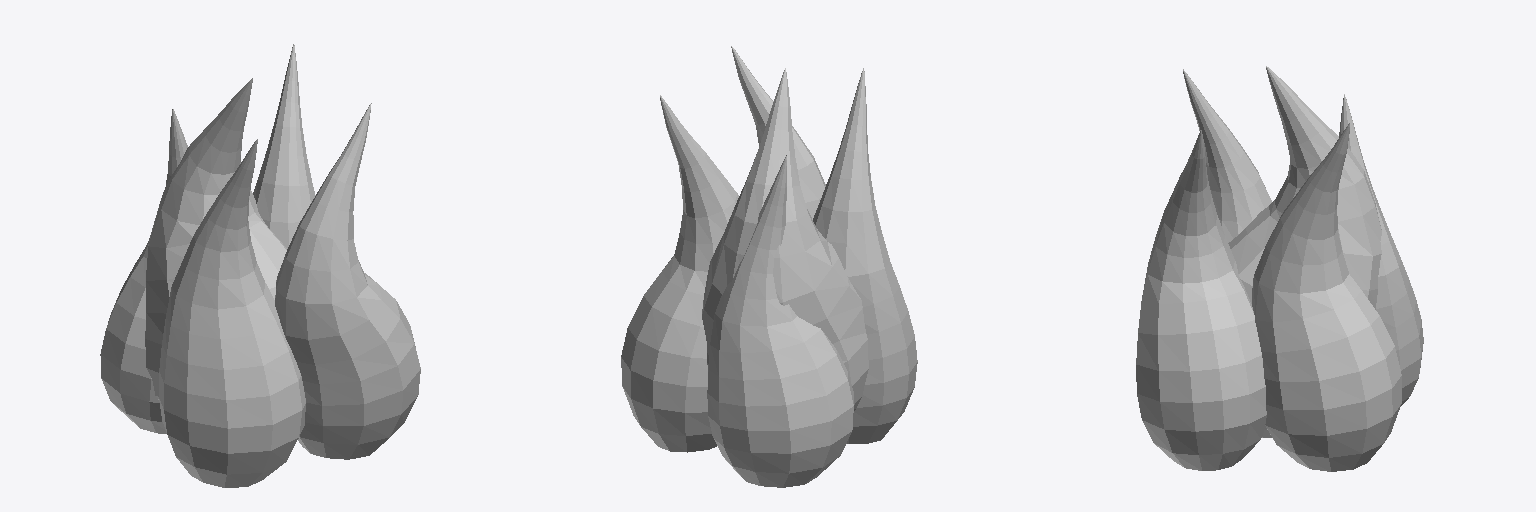
Rendered from fire_000015.obj.
3 renders of one model, left to right at view 1: azimuth 30°, elevation 25°; view 2: azimuth 150°, elevation 25°; view 3: azimuth 270°, elevation 25°, orthographic.
Parts seen in each view (by area): view 1: flame_NurbsPath.015; view 2: flame_NurbsPath.015; view 3: flame_NurbsPath.015.
Boxes of the visible parts, x1,y1,x2,y2 form: flame_NurbsPath.015: [100, 44, 420, 487]; flame_NurbsPath.015: [621, 46, 917, 487]; flame_NurbsPath.015: [1136, 66, 1423, 471].
Size of the model in its own units: 0.7541 by 1.15 by 0.8055.